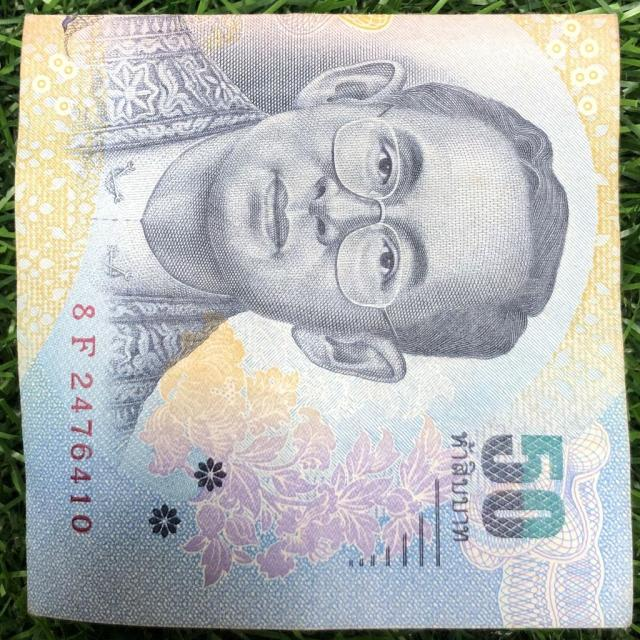THAI50: (17, 15, 631, 629)
